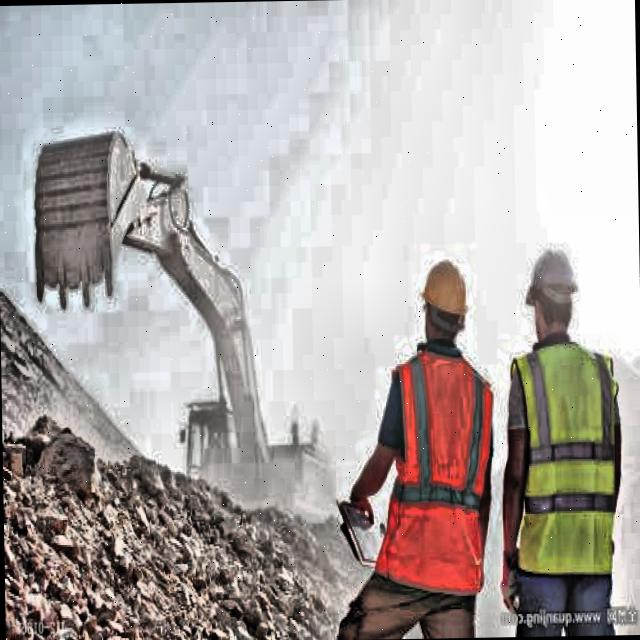helmet: (520, 226, 586, 354), (418, 242, 474, 364)
